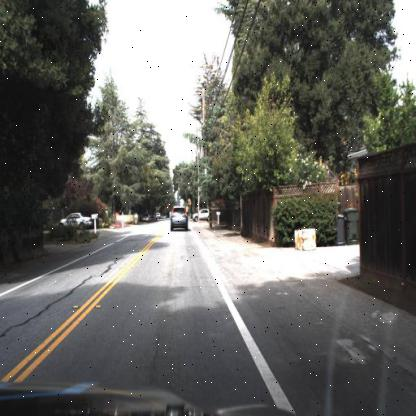car: (61, 211, 93, 230), (170, 202, 190, 232), (190, 202, 212, 222)
